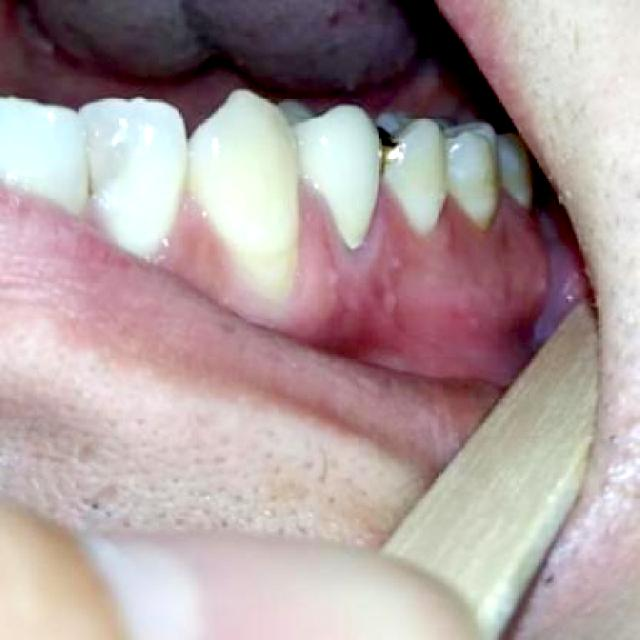Plaque: (333, 230, 379, 267)
